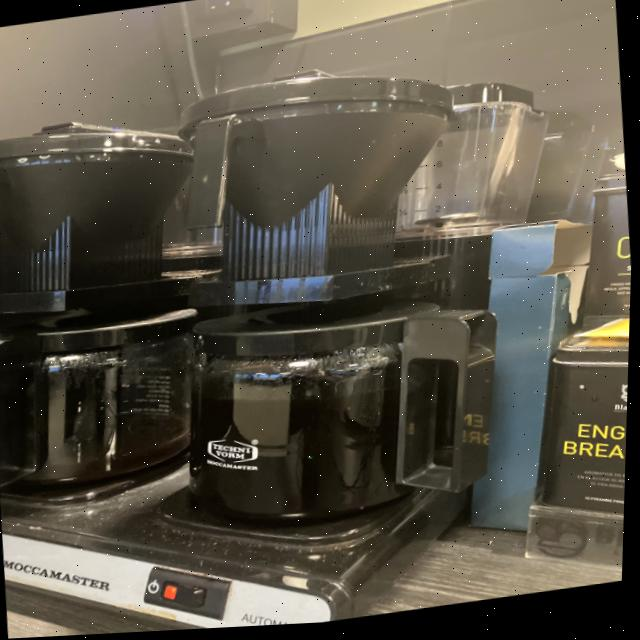coffee: (138, 272, 515, 556), (0, 288, 217, 513)
